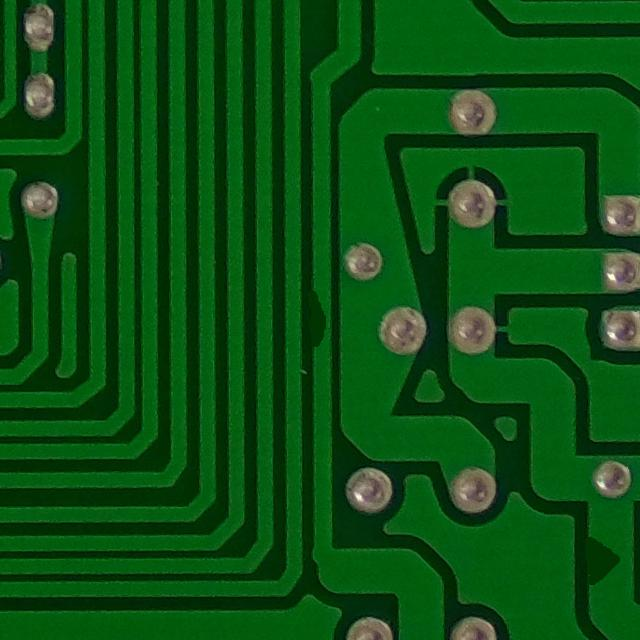mouse_bite: (303, 277, 338, 364)
